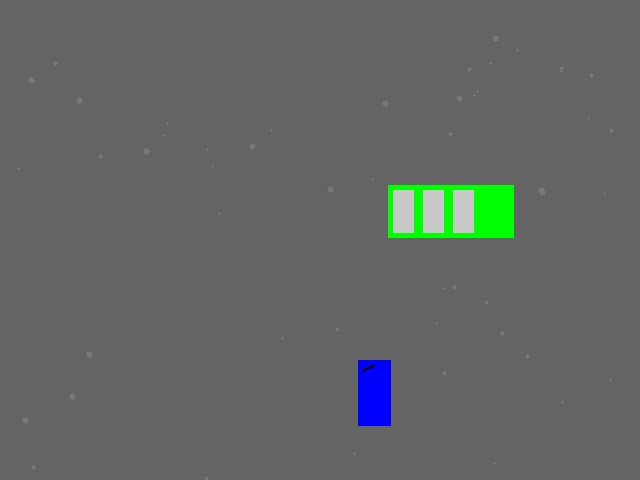bus: (388, 185, 513, 237)
motorcycle: (358, 360, 390, 425)
